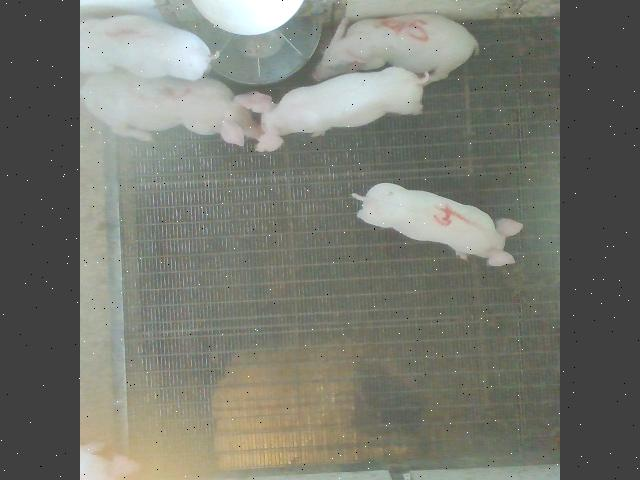pig-1: (81, 16, 219, 79)
pig-3: (82, 70, 261, 144)
pig-4: (353, 182, 522, 265)
pig-5: (314, 14, 479, 81)
